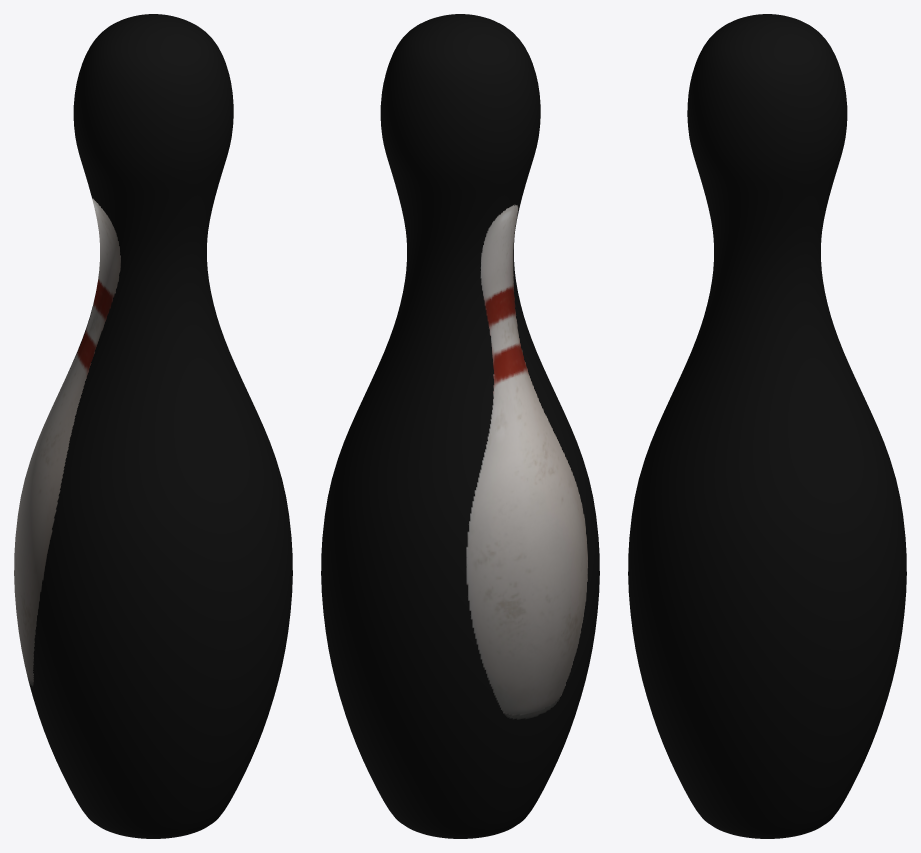
Rendered from pin.obj.
3 renders of one model, left to right at view 1: azimuth 30°, elevation 25°; view 2: azimuth 150°, elevation 25°; view 3: azimuth 270°, elevation 25°, orthographic.
Parts seen in each view (by area): view 1: objCylinder01.001; view 2: objCylinder01.001; view 3: objCylinder01.001.
Part boxes in pixels (x1,y1,x2,y2): objCylinder01.001: (14,14,292,838); objCylinder01.001: (321,14,599,838); objCylinder01.001: (628,14,906,838).
Size of the model in its own units: 0.846 by 2.65 by 0.846.
